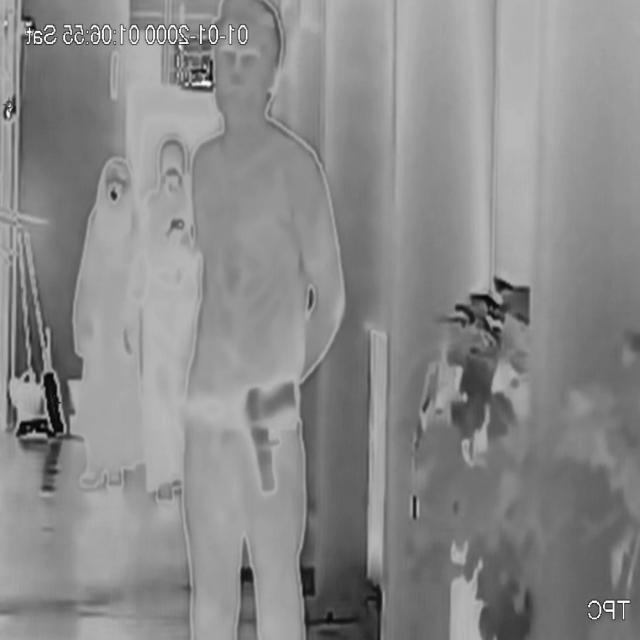Weapon: (236, 374, 303, 512)
